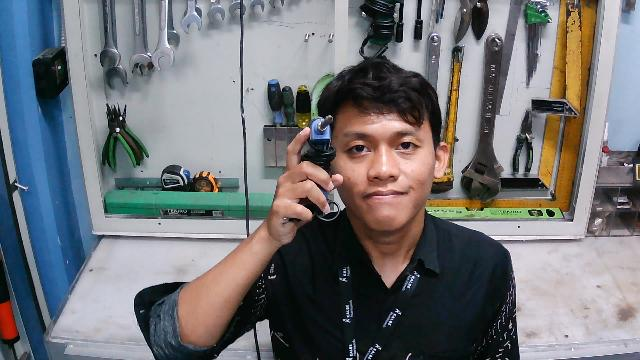solder_electrical: (282, 111, 345, 228)
